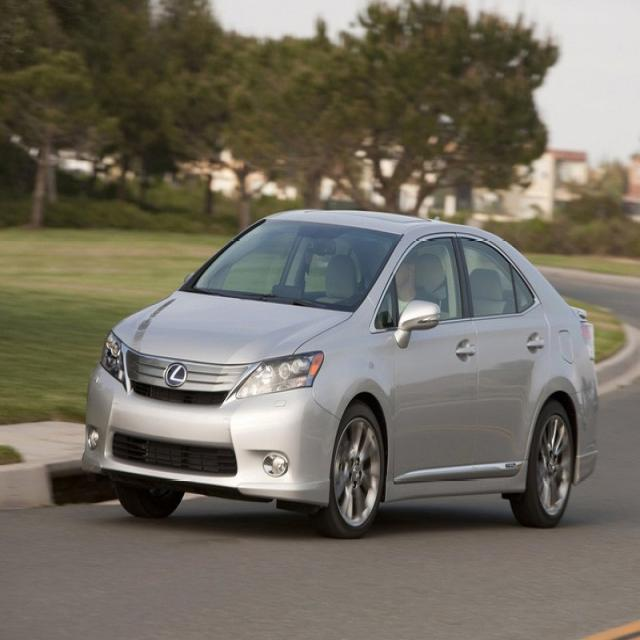door: (458, 233, 550, 485)
front_glass: (184, 219, 404, 312)
front_left_side_door: (391, 231, 479, 486)
front_left_side_light: (234, 349, 326, 399)
front_left_side_mirror: (394, 299, 441, 349)
front_right_side_light: (99, 327, 127, 388)
wheel: (312, 395, 387, 538), (510, 400, 576, 529)
